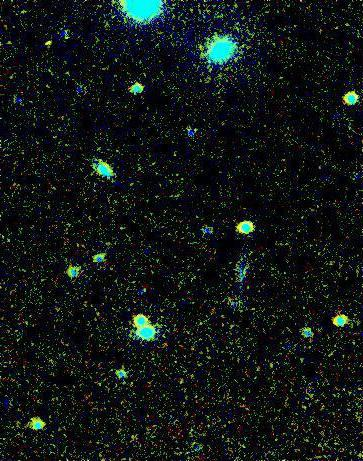star: (40, 26, 70, 56)
